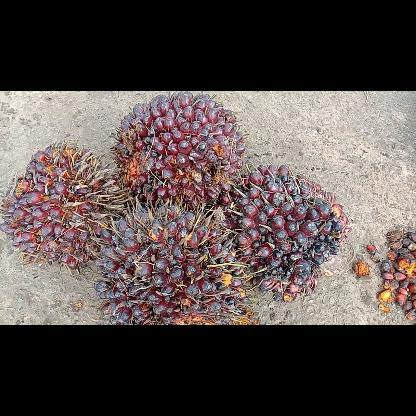Kurang masak: (91, 194, 259, 324), (220, 164, 356, 304), (0, 137, 136, 269)
TBS masak: (108, 91, 250, 213)
